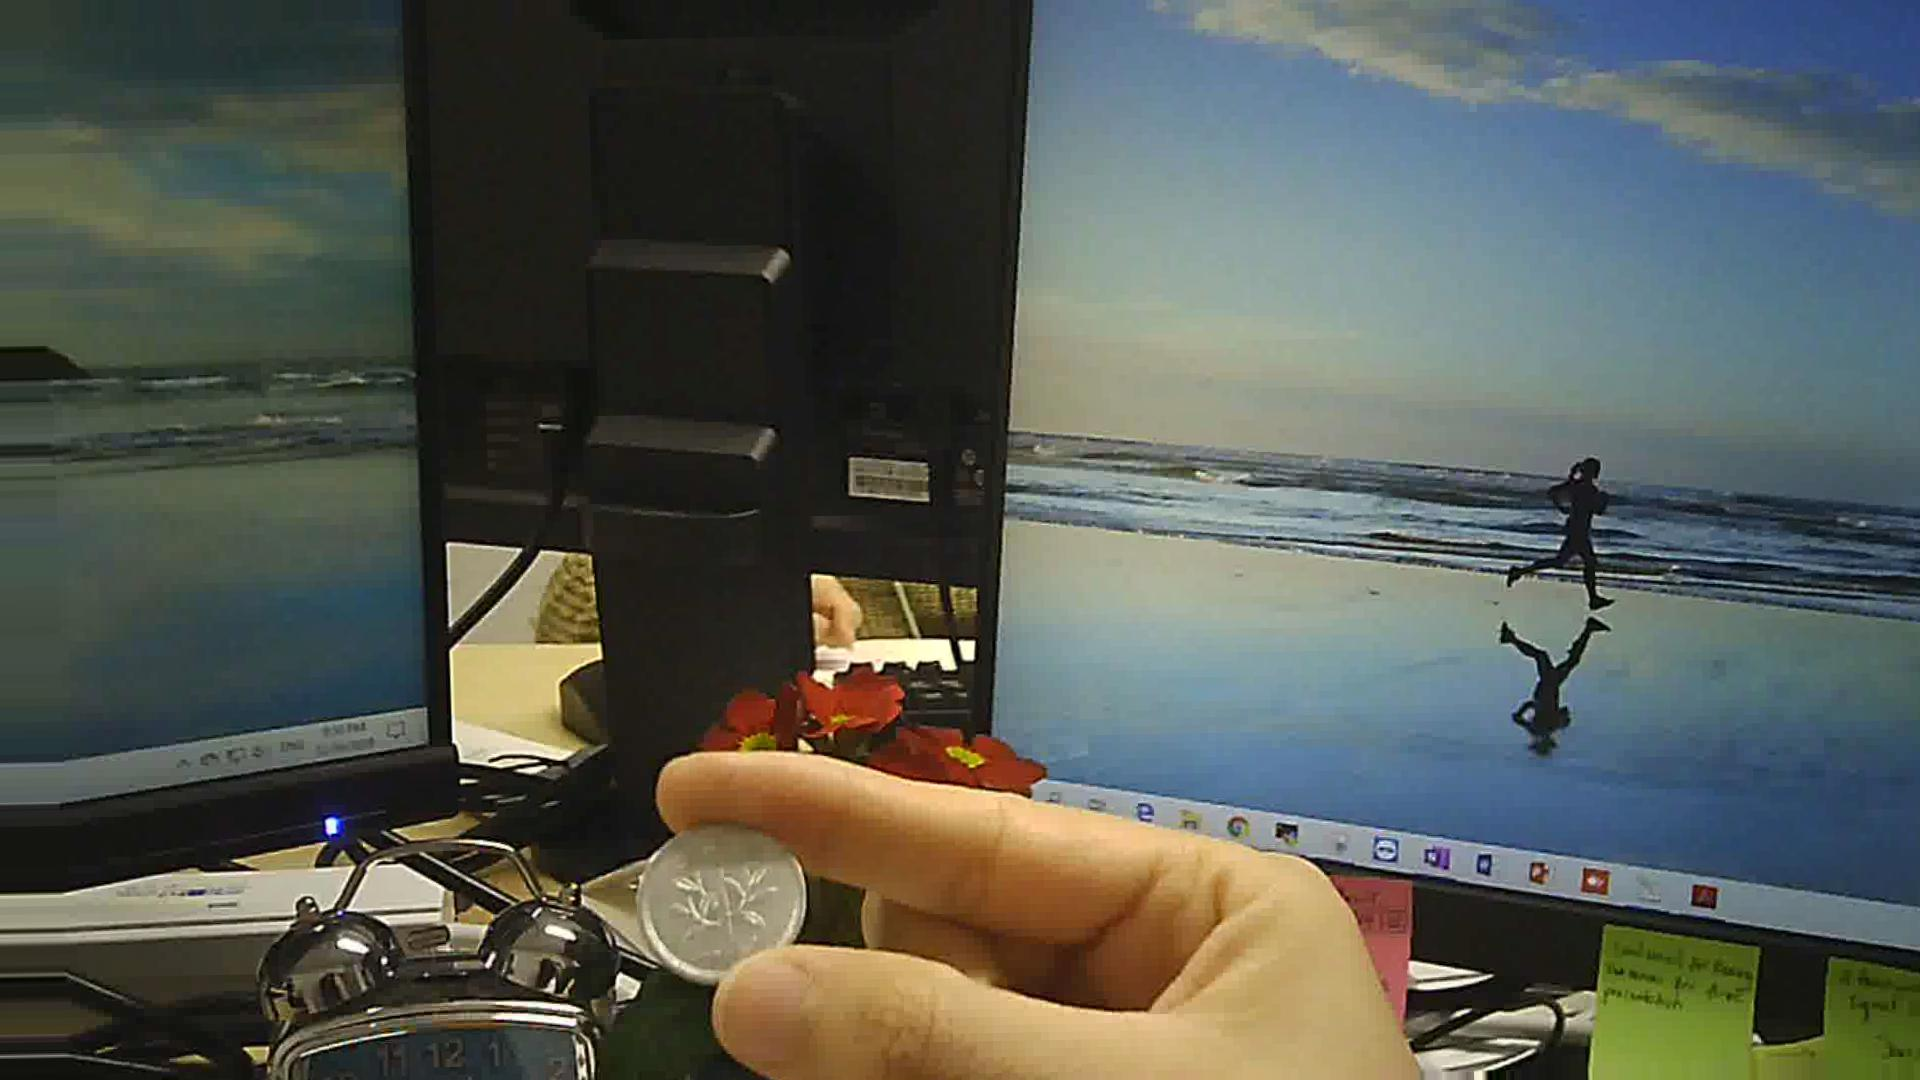1 Yen: (621, 815, 828, 996)
